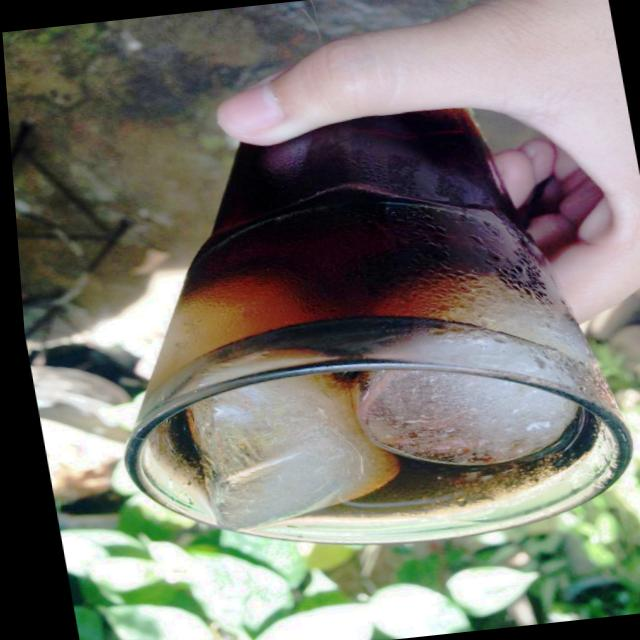drink: (130, 106, 632, 547)
